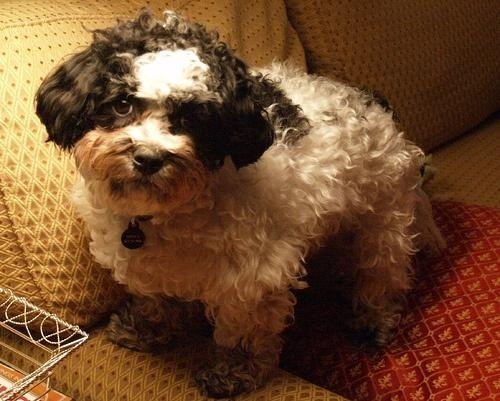dog: (36, 13, 447, 397)
